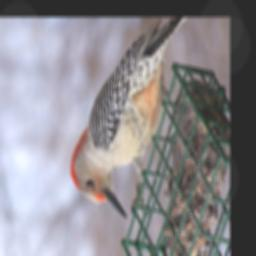Woodpecker: (69, 17, 181, 217)
